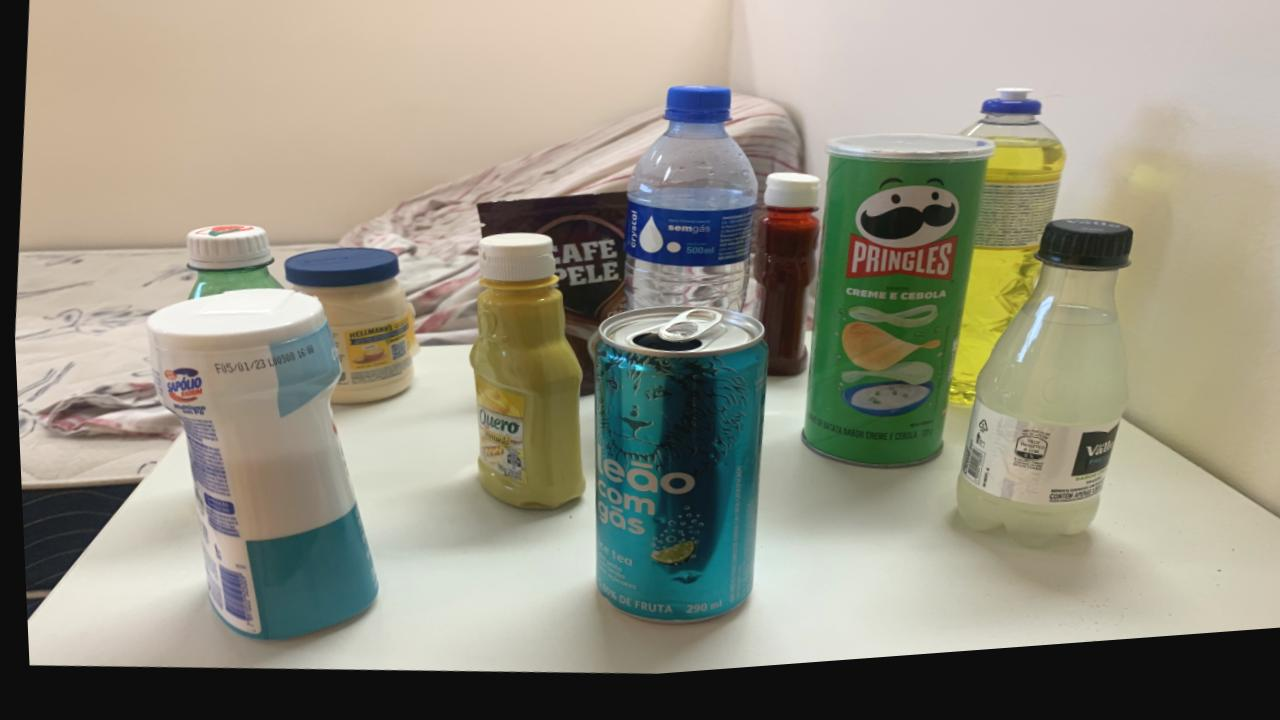Cleaner-Cleanup_Items: (144, 294, 369, 643)
Coffee-Pantry_Items: (475, 201, 624, 403)
Detergent-Cleanup_Items: (945, 104, 1063, 418)
Guarana-Drinks: (183, 227, 279, 302)
Ketchup-Pantry_Items: (750, 215, 817, 389), (763, 185, 815, 215)
Mayonnaise-Pantry_Items: (282, 253, 413, 408)
Mustard-Pantry_Items: (465, 240, 579, 517)
Pringles-Snacks: (796, 148, 991, 480)
Soda-Drinks: (950, 237, 1127, 563)
Tea-Drinks: (590, 316, 763, 632)
Water_Bottle-Drinks: (621, 98, 755, 323)
